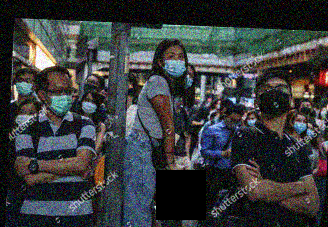with_mask: (256, 79, 291, 116), (46, 82, 74, 116), (161, 50, 185, 76), (15, 107, 36, 127), (14, 76, 34, 95), (81, 96, 98, 114), (291, 116, 307, 135), (83, 77, 100, 93), (225, 115, 243, 130), (183, 69, 194, 89), (300, 102, 313, 115), (305, 125, 316, 139), (246, 114, 258, 126)
